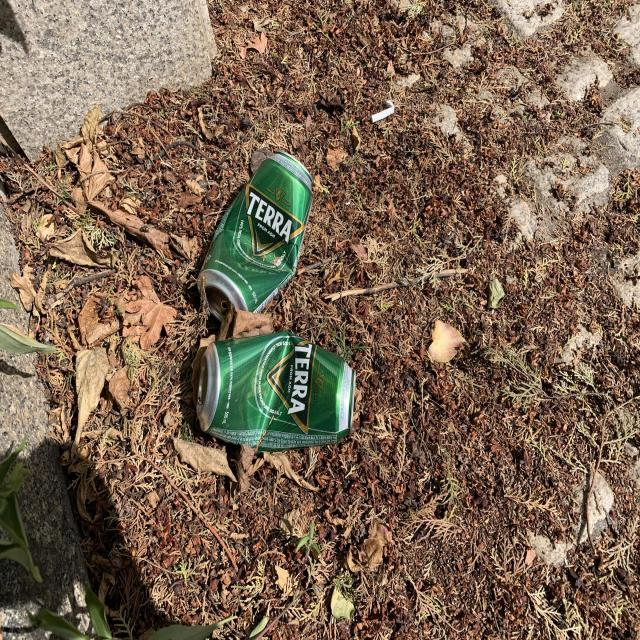can: (197, 150, 313, 321), (196, 332, 356, 452)
